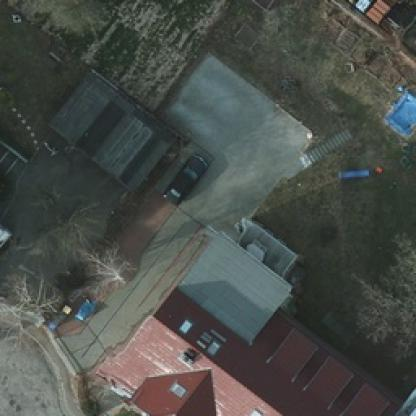car: (158, 152, 204, 206)
